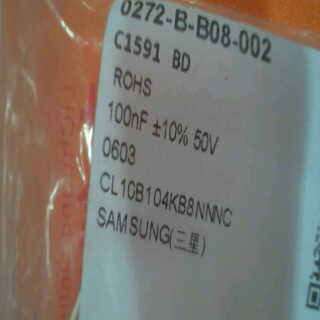100nF: (101, 98, 149, 136)
